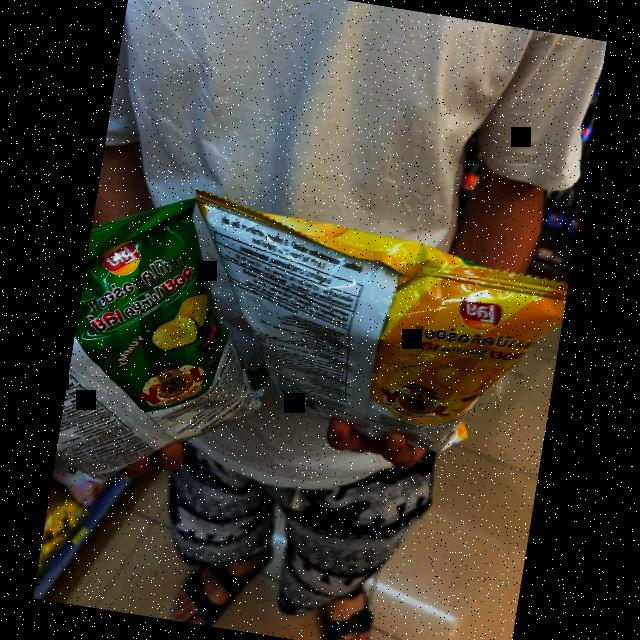snack_bag: (167, 178, 576, 468), (52, 183, 304, 513)
